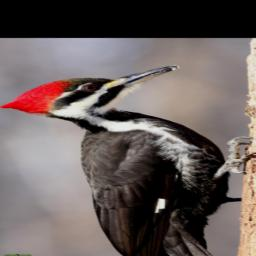Woodpecker: (0, 63, 254, 256)
